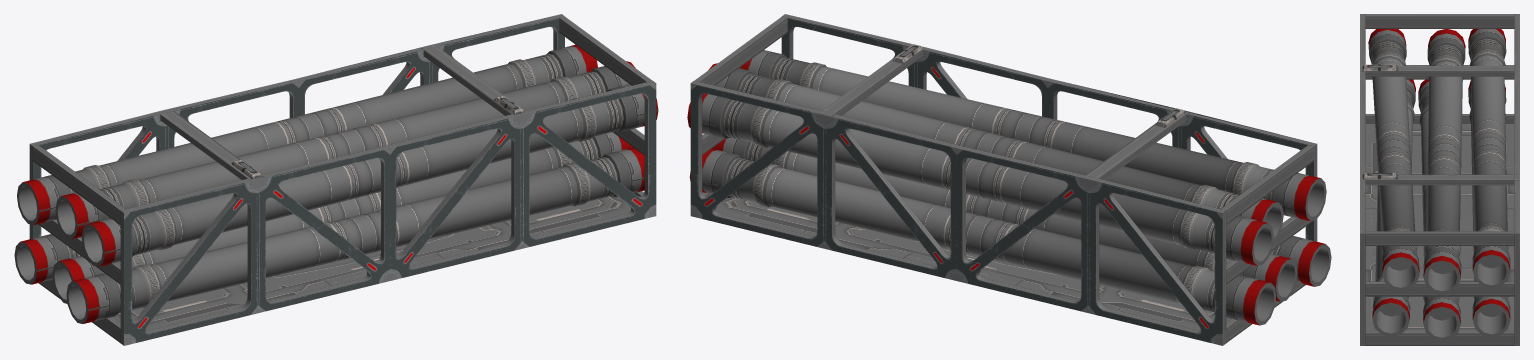
File: Prop_PipeHolder.gltf
3 views of the same model, side by side, from view 1: azimuth 30°, elevation 25°; view 2: azimuth 150°, elevation 25°; view 3: azimuth 270°, elevation 25° (orthographic). The views are drawn at different scales.
Visible parts, largest first — view 1: Prop_PipeHolder; view 2: Prop_PipeHolder; view 3: Prop_PipeHolder.
Boxes of the visible parts, x1,y1,x2,y2 form: Prop_PipeHolder: [14, 14, 658, 345]; Prop_PipeHolder: [687, 14, 1331, 345]; Prop_PipeHolder: [1360, 14, 1519, 345].
Size of the model in its own units: 4.12 by 0.9274 by 1.16.
Materials: 3 (3 with a texture image).
